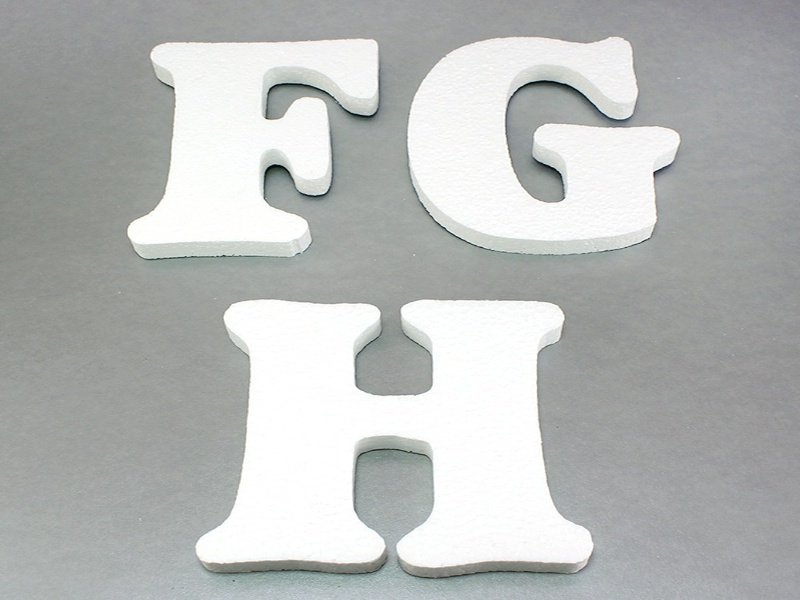letter: (192, 285, 611, 591), (412, 26, 684, 269), (123, 25, 382, 270)
